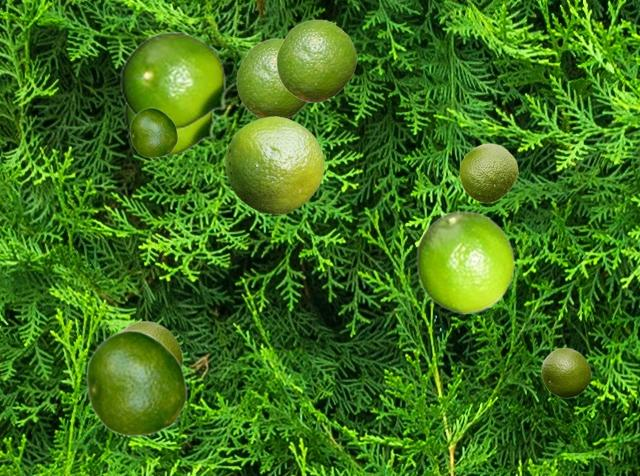calamansi: (119, 32, 237, 129), (85, 329, 187, 436), (416, 210, 514, 312), (225, 116, 323, 213), (276, 19, 356, 102), (236, 38, 307, 117), (123, 101, 223, 155), (459, 143, 517, 202), (122, 320, 182, 364), (541, 347, 590, 397), (129, 107, 177, 157)
